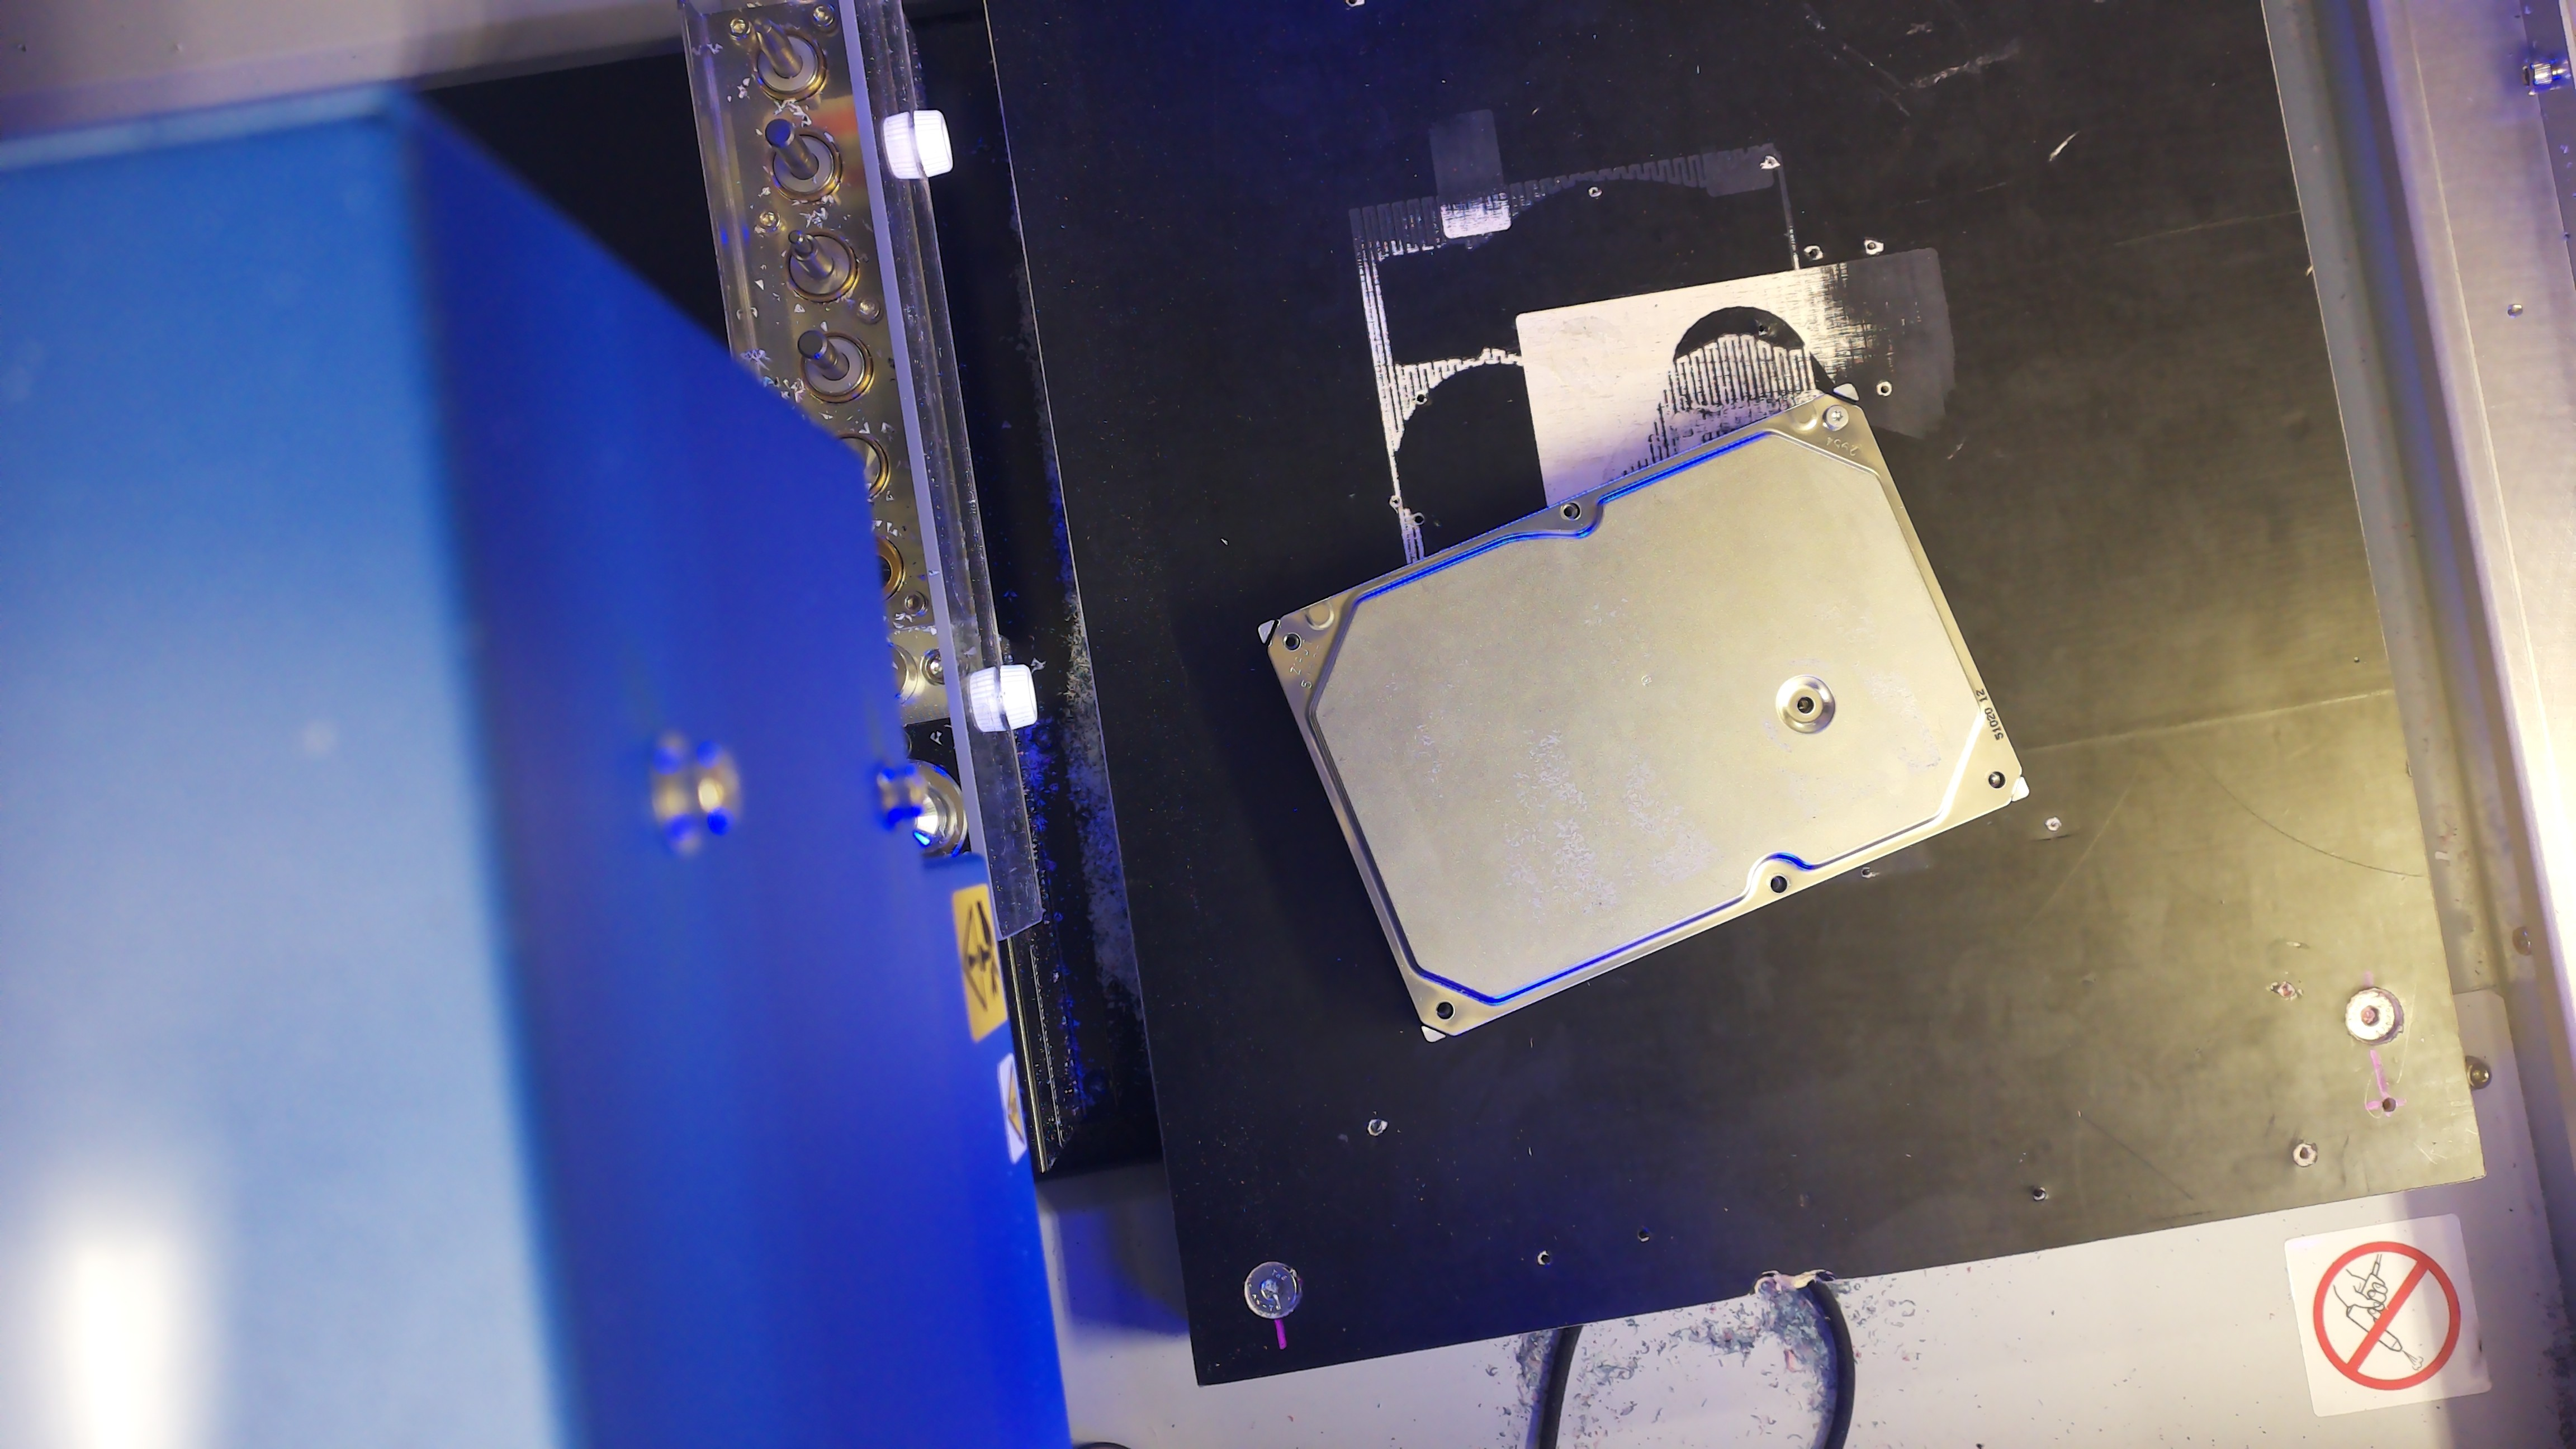Hole: (1560, 501, 1582, 522), (1435, 1000, 1454, 1021), (1283, 632, 1302, 651), (1769, 874, 1789, 893), (1987, 770, 2006, 789), (1796, 695, 1815, 715)
Screw: (1824, 405, 1849, 430)
